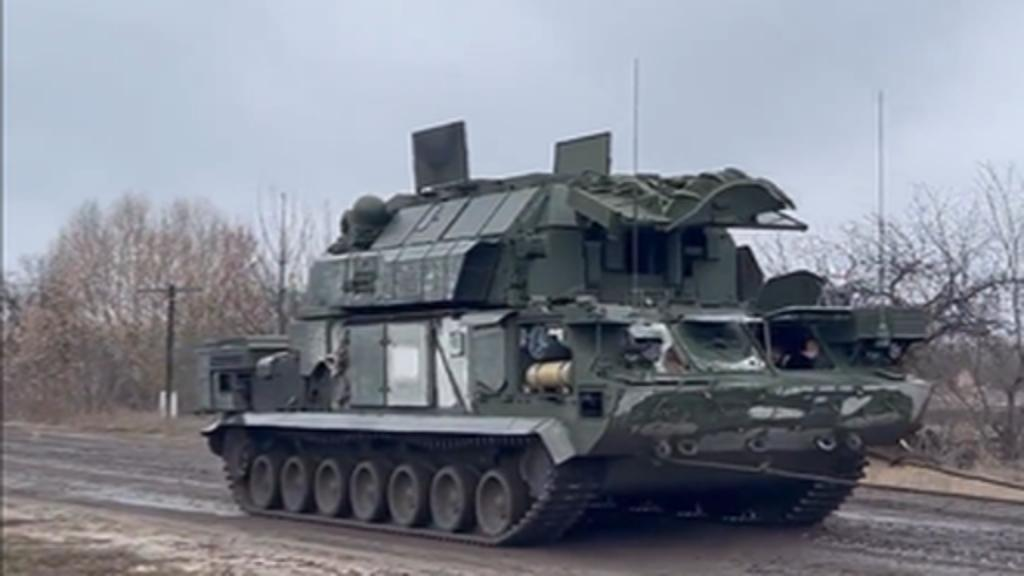MLRS: (186, 158, 922, 548)
